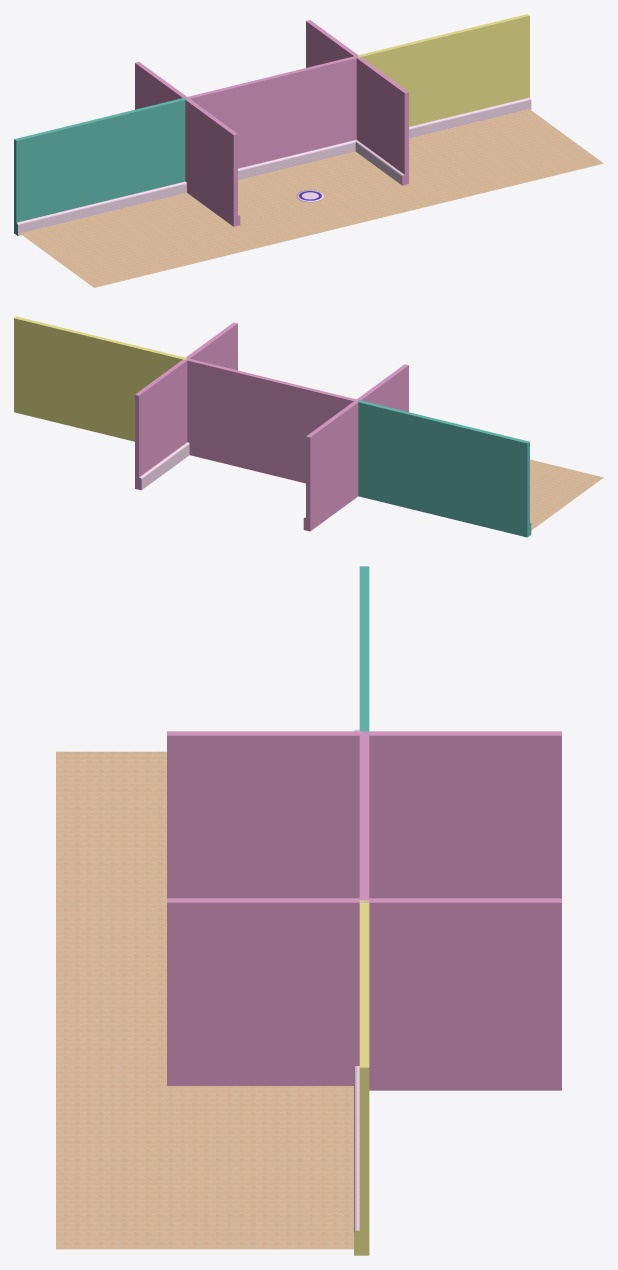
Rendered from jelly-world.glb.
3 renders of one model, top to bottom at view 1: azimuth 30°, elevation 25°; view 2: azimuth 150°, elevation 25°; view 3: azimuth 270°, elevation 25°, orthographic. The views are drawn at different scales.
Visible parts, largest first — view 1: Plane, wall.001, wall.002, wall, wall.004, wall.003; view 2: wall.001, wall.002, wall, wall.004, wall.003, Plane; view 3: Plane, wall.004, wall.003, wall.002, wall.001, wall.
Part boxes in pixels (x1,y1,x2,y2): Plane: (20,109,603,287); wall.001: (14,97,186,235); wall.002: (357,14,531,138); wall: (185,56,357,179); wall.004: (306,20,408,185); wall.003: (135,62,240,226); wall.001: (357,400,531,537); wall.002: (14,316,187,441); wall: (185,358,356,483); wall.004: (135,322,237,490); wall.003: (303,364,408,531); Plane: (530,459,603,530); Plane: (56,751,353,1249); wall.004: (167,898,561,1090); wall.003: (167,731,561,898); wall.002: (354,900,369,1255); wall.001: (354,566,369,733); wall: (359,733,369,900).
Size of the model in its own units: 12 by 2.1 by 5.12.
2 materials, 2 textured.
